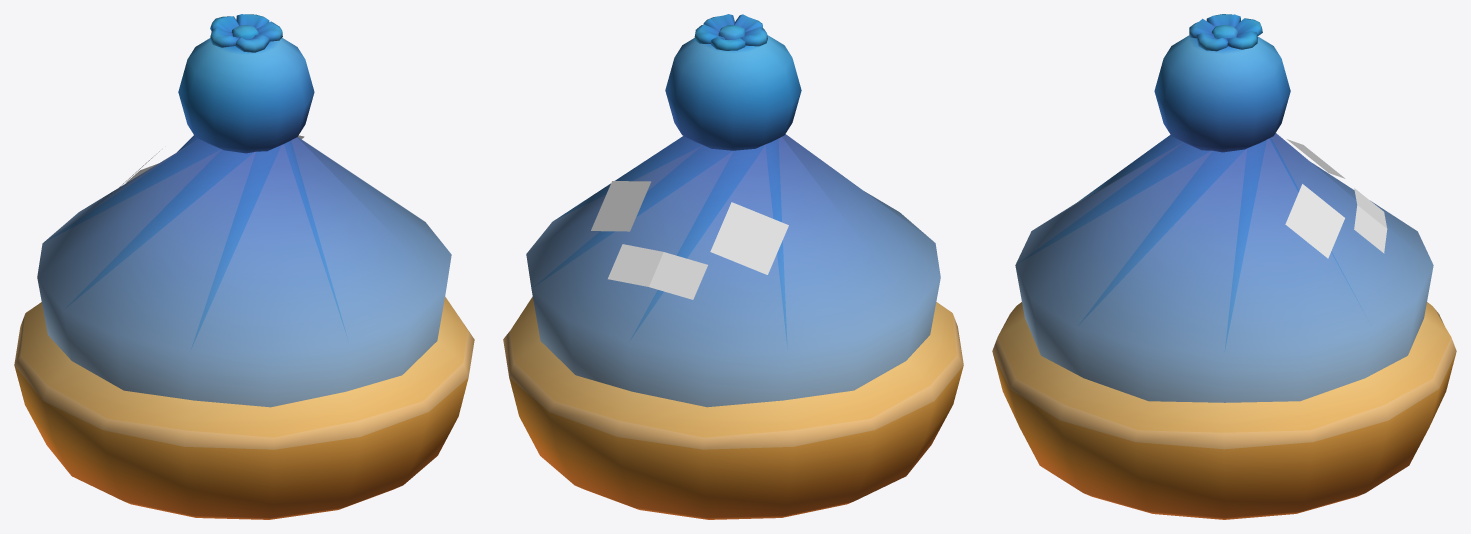
The model's file is pastry_blueberry_smile.fbx.
3 views of the same model, side by side, from view 1: azimuth 30°, elevation 25°; view 2: azimuth 150°, elevation 25°; view 3: azimuth 270°, elevation 25° (orthographic).
Visible parts, largest first — view 1: pastry_blueberry_smile; view 2: pastry_blueberry_smile; view 3: pastry_blueberry_smile.
Part boxes in pixels (x1,y1,x2,y2): pastry_blueberry_smile: (14,14,474,519); pastry_blueberry_smile: (503,14,963,519); pastry_blueberry_smile: (992,14,1456,519).
Size of the model in its own units: 51.53 by 50.88 by 51.53.
Materials: 2 (1 with a texture image).
